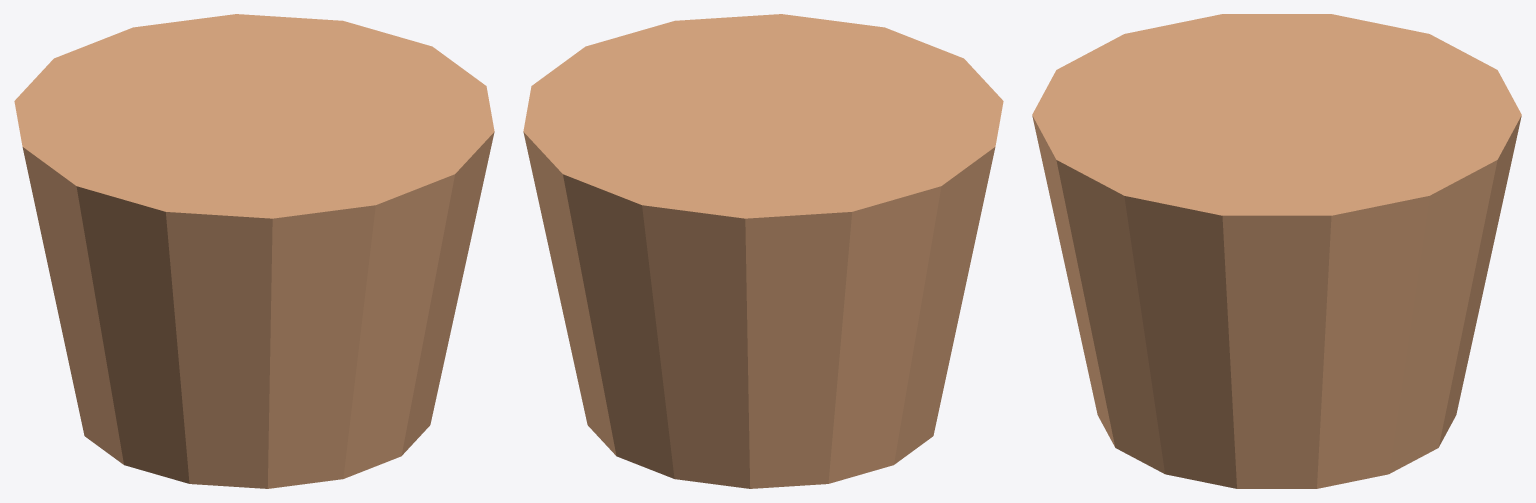
File: BucketInner.fbx
3 views of the same model, side by side, from view 1: azimuth 30°, elevation 25°; view 2: azimuth 150°, elevation 25°; view 3: azimuth 270°, elevation 25° (orthographic).
Parts seen in each view (by area): view 1: polySurface102; view 2: polySurface102; view 3: polySurface102.
Part boxes in pixels (x1,y1,x2,y2): polySurface102: [14, 14, 494, 488]; polySurface102: [523, 14, 1003, 488]; polySurface102: [1032, 14, 1521, 488].
Bounding box in the file's own units: 2.35 × 1.63 × 2.41.
